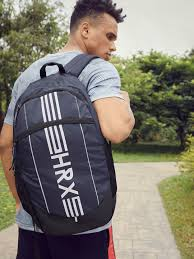backpack: (11, 54, 117, 237)
